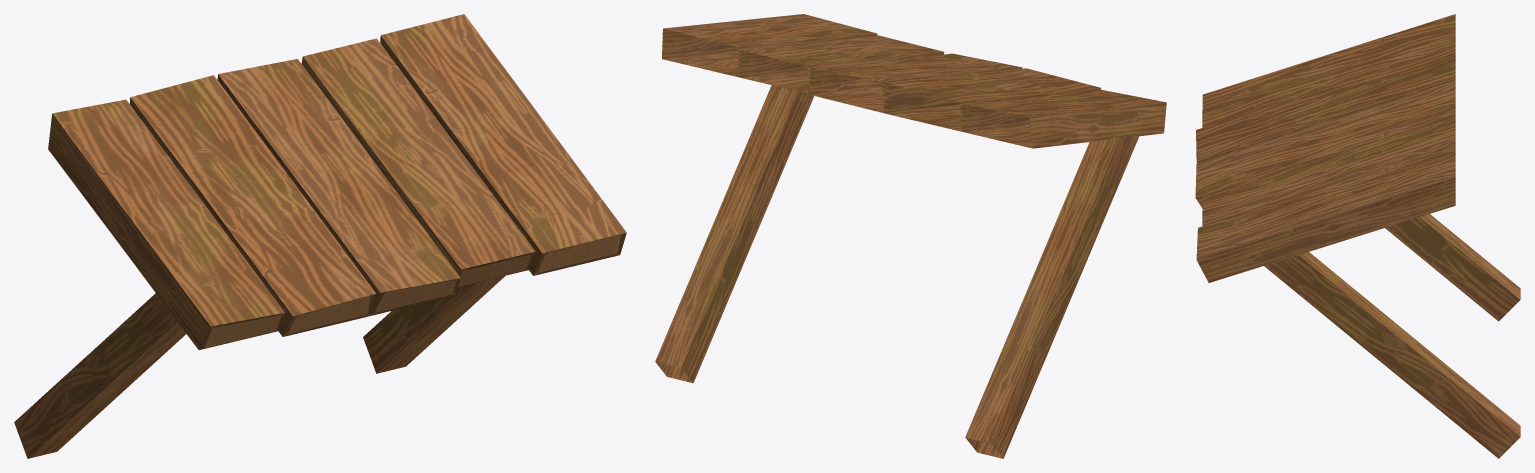
Rendered from Window_Roof_Wide.gltf.
3 views of the same model, side by side, from view 1: azimuth 30°, elevation 25°; view 2: azimuth 150°, elevation 25°; view 3: azimuth 270°, elevation 25° (orthographic). The views are drawn at different scales.
Visible parts, largest first — view 1: Window_Roof_Wide; view 2: Window_Roof_Wide; view 3: Window_Roof_Wide.
Boxes of the visible parts, box(x1,y1,x2,y2) form: Window_Roof_Wide: box(14, 14, 626, 458); Window_Roof_Wide: box(655, 14, 1166, 458); Window_Roof_Wide: box(1195, 14, 1520, 458).
Size of the model in its own units: 1.42 by 1.18 by 1.18.
Materials: 2 (2 with a texture image).
